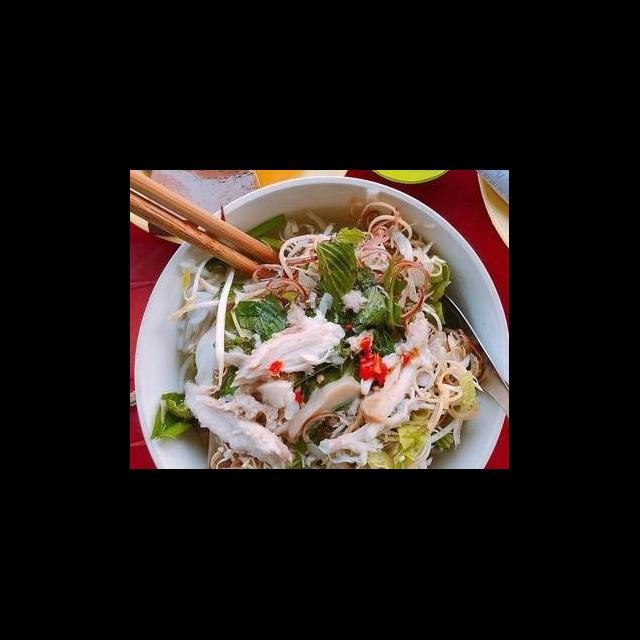bun: (165, 255, 228, 398)
bun ca: (144, 194, 509, 470)
ca: (178, 376, 298, 470), (224, 308, 350, 396)
